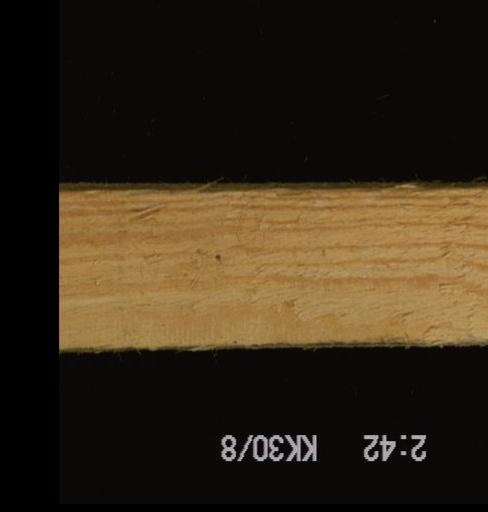small_knot: (208, 249, 227, 267)
